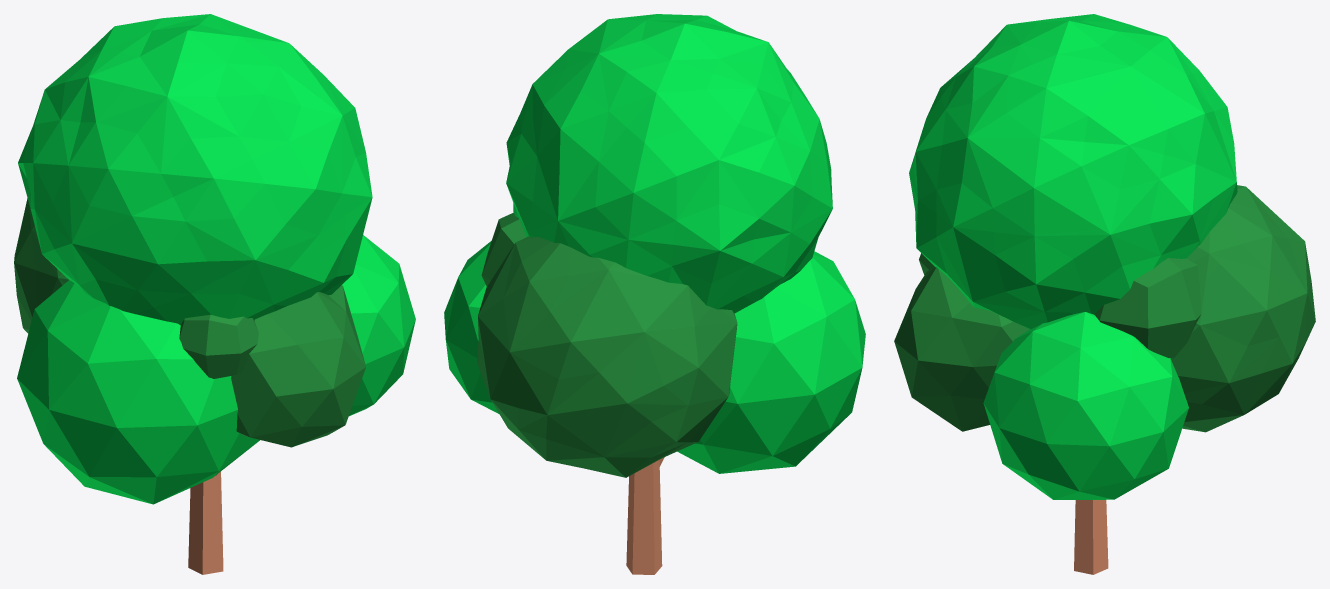
File: tree_1.fbx
The picture shows the model from 3 angles, left to right: view 1: azimuth 30°, elevation 25°; view 2: azimuth 150°, elevation 25°; view 3: azimuth 270°, elevation 25°; orthographic projection. The views are drawn at different scales.
Visible parts, largest first — view 1: tree-lime, tree-lime.001; view 2: tree-lime, tree-lime.001; view 3: tree-lime, tree-lime.001.
Boxes of the visible parts, <box> form: tree-lime: <box>14,14,415,504</box>; tree-lime.001: <box>188,471,223,574</box>; tree-lime: <box>444,14,865,477</box>; tree-lime.001: <box>626,457,664,574</box>; tree-lime: <box>894,14,1315,499</box>; tree-lime.001: <box>1074,500,1108,574</box>.
Size of the model in its own units: 4.71 by 6.49 by 4.66.
